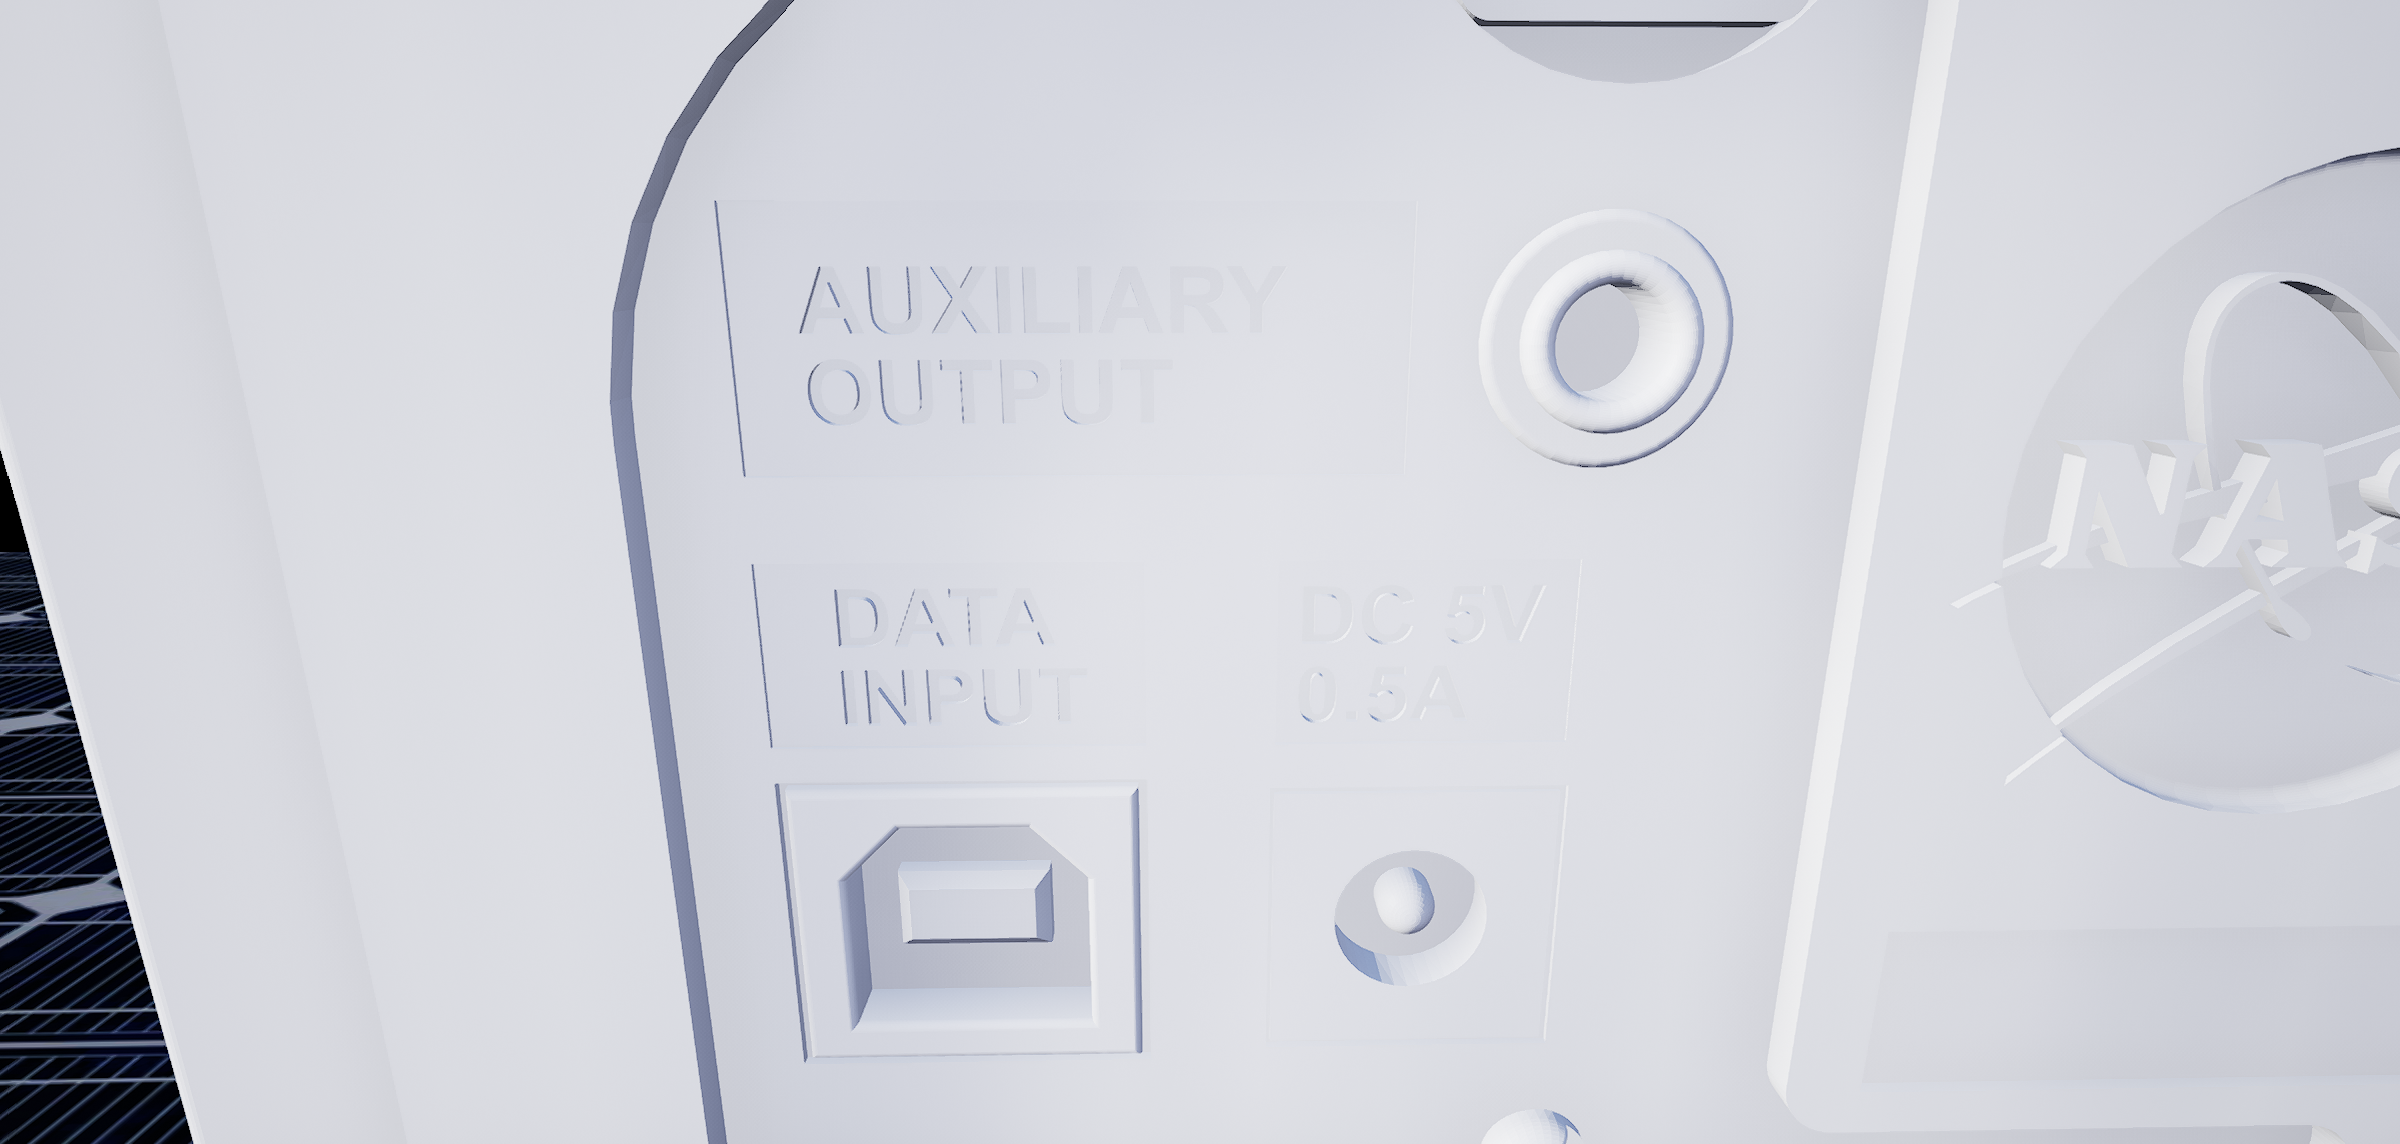aux: (1453, 175, 1765, 508)
dc: (1324, 842, 1508, 992)
usb: (817, 812, 1114, 1049)
